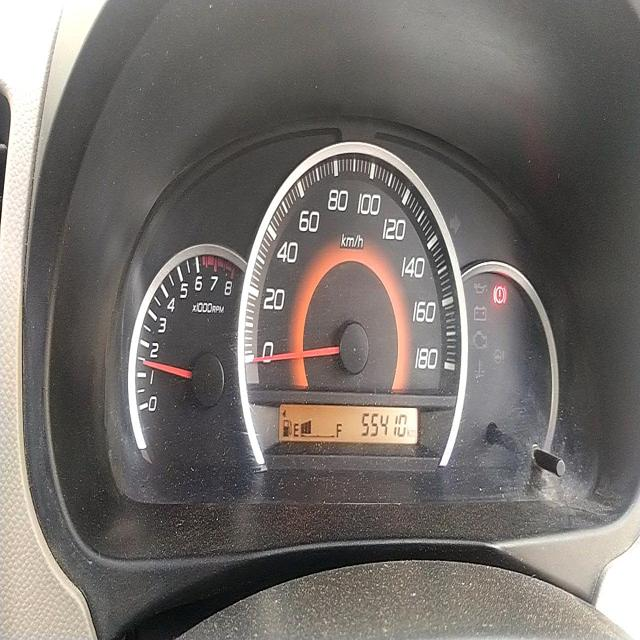odometer: (361, 409, 407, 440)
